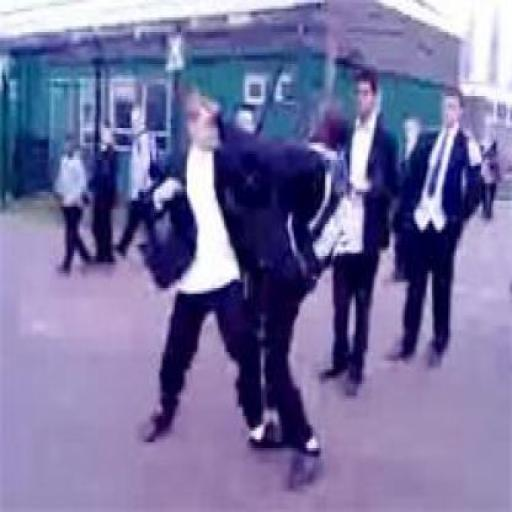Fighting: (144, 94, 350, 500)
